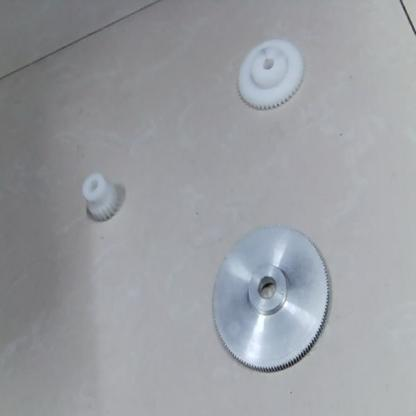FOD: (199, 220, 331, 376), (235, 36, 308, 113), (82, 175, 119, 224)
